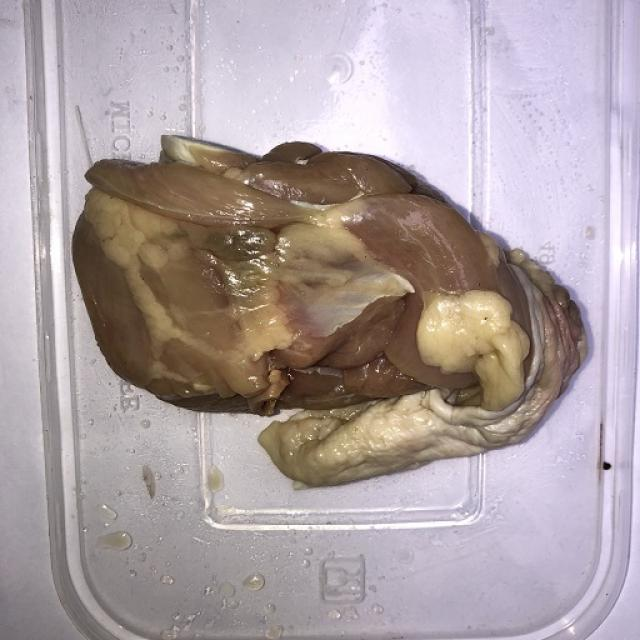chicken: (63, 124, 594, 495)
